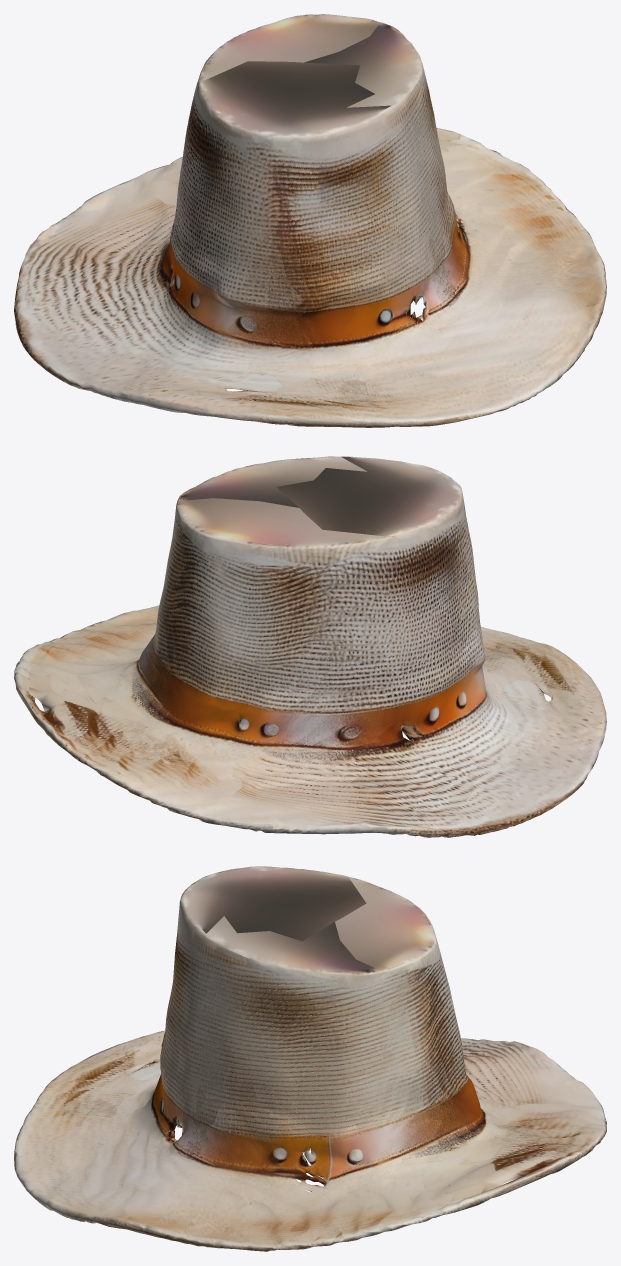
3 views of the same model, one above another, from view 1: azimuth 30°, elevation 25°; view 2: azimuth 150°, elevation 25°; view 3: azimuth 270°, elevation 25° (orthographic). The views are drawn at different scales.
Bounding box in the file's own units: 1 × 0.4425 × 0.9992.
Materials: 1 (1 with a texture image).
